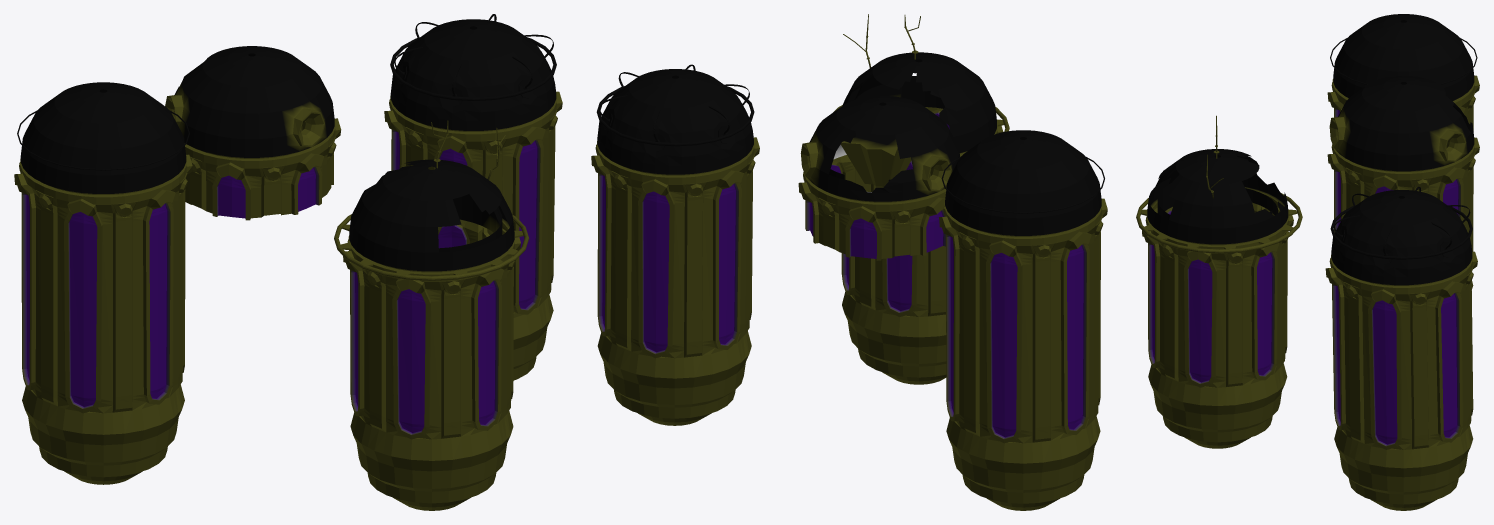
Rendered from 08_Buildings.fbx.
The picture shows the model from 3 angles, left to right: view 1: azimuth 30°, elevation 25°; view 2: azimuth 150°, elevation 25°; view 3: azimuth 270°, elevation 25°; orthographic projection. The views are drawn at different scales.
Parts seen in each view (by area): view 1: sphere1; view 2: sphere1; view 3: sphere1.
Boxes of the visible parts, x1=… form: sphere1: x1=14, y1=14, x2=562, y2=510; sphere1: x1=591, y1=14, x2=1107, y2=510; sphere1: x1=1136, y1=14, x2=1479, y2=510.
Size of the model in its own units: 9.51 by 6.74 by 6.34.
